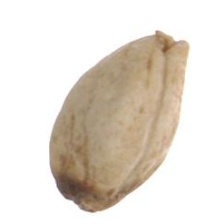L1: (53, 176, 117, 213), (154, 30, 190, 57)
L2: (48, 33, 189, 213)
